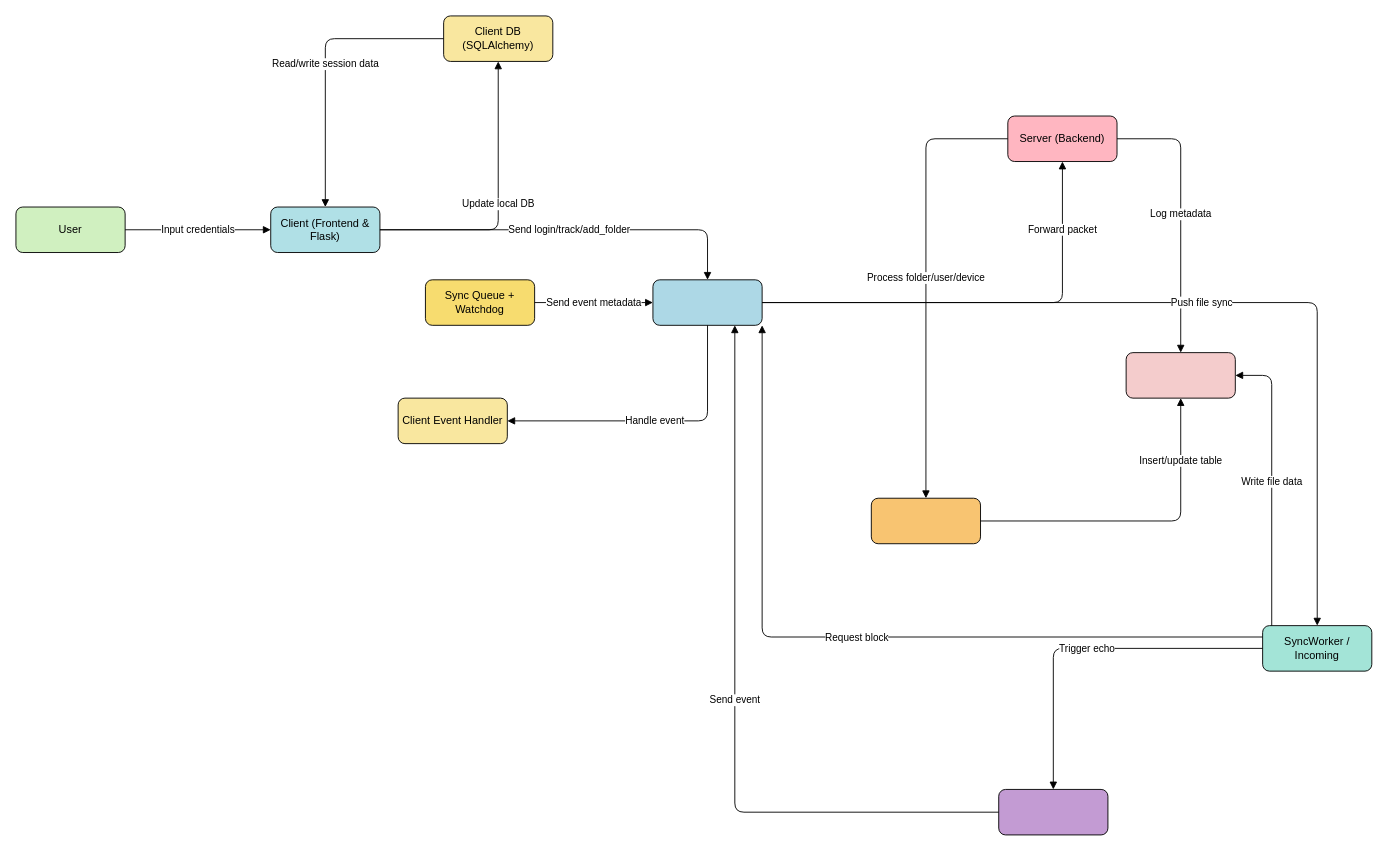
The diagram is 1388 pixels wide and 851 high, and some of its shapes have lost their labels. The shapes that lost their labels are listed below. From the top down, each one's box as (x1, y1, x2, y2) in pixels, then its label:
(652, 279, 762, 325): TCP Socket 8000/9000
(1125, 352, 1235, 398): Server DB (SQLAlchemy)
(870, 497, 981, 544): Share & Folder Handler
(998, 789, 1108, 835): Echo Handler
